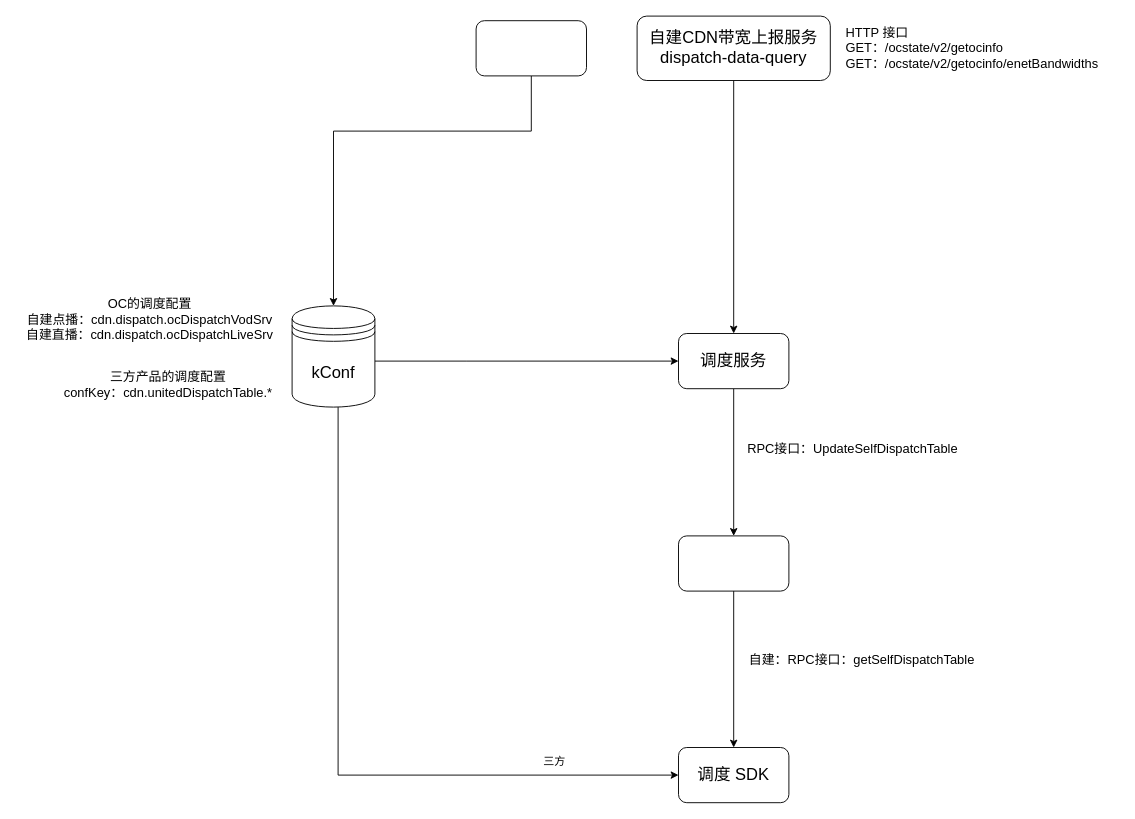
This 1135x819 diagram has some shape labels left out. The box of each missing label's shape, as (x1, y1, x2, y2) in pixels:
CDN console: (475, 20, 586, 76)
调度表服务: (678, 535, 789, 591)
